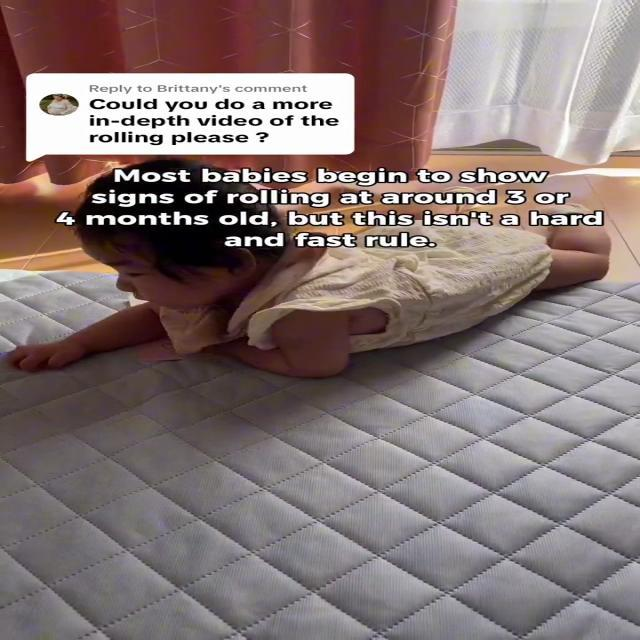baby: (12, 157, 618, 379)
